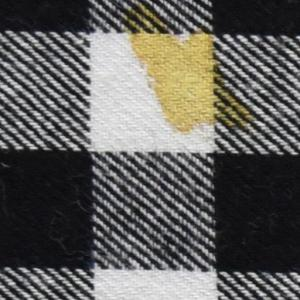Stain: (122, 1, 258, 138)
